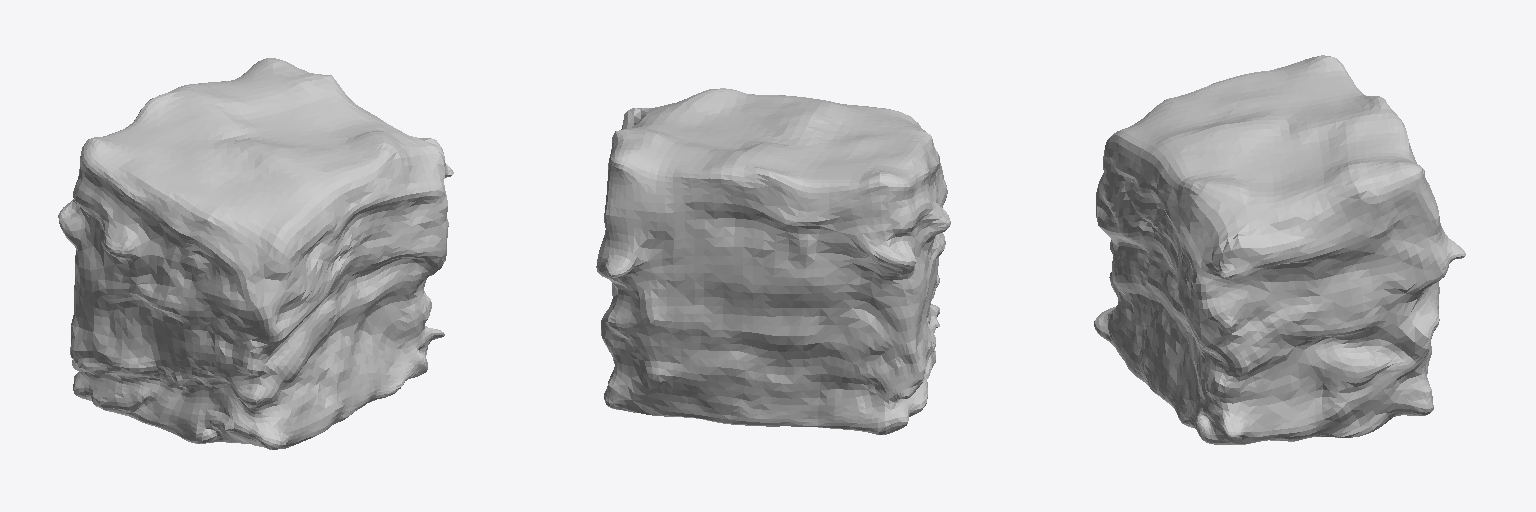
Rendered from lasagna.obj.
3 views of the same model, side by side, from view 1: azimuth 30°, elevation 25°; view 2: azimuth 150°, elevation 25°; view 3: azimuth 270°, elevation 25° (orthographic).
Visible parts, largest first — view 1: mesh; view 2: mesh; view 3: mesh.
Part boxes in pixels (x1,y1,x2,y2): mesh: (58, 58, 453, 449); mesh: (596, 88, 950, 434); mesh: (1094, 55, 1465, 444).
Bounding box in the file's own units: 99.11 × 74.75 × 93.95.